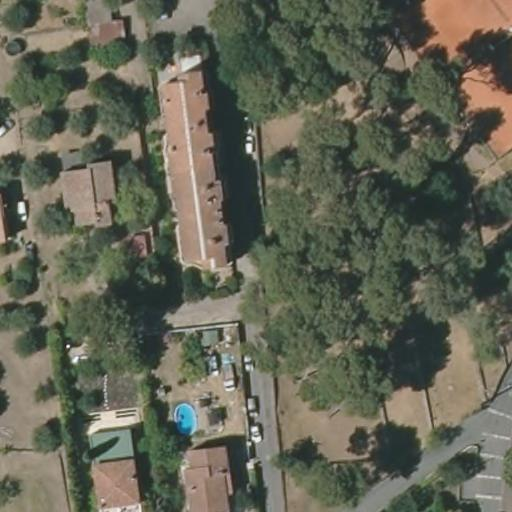pool: (169, 400, 200, 440)
